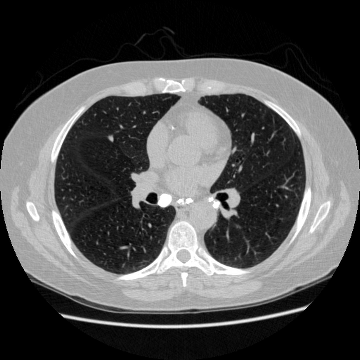nodule: (109, 136, 113, 140)
